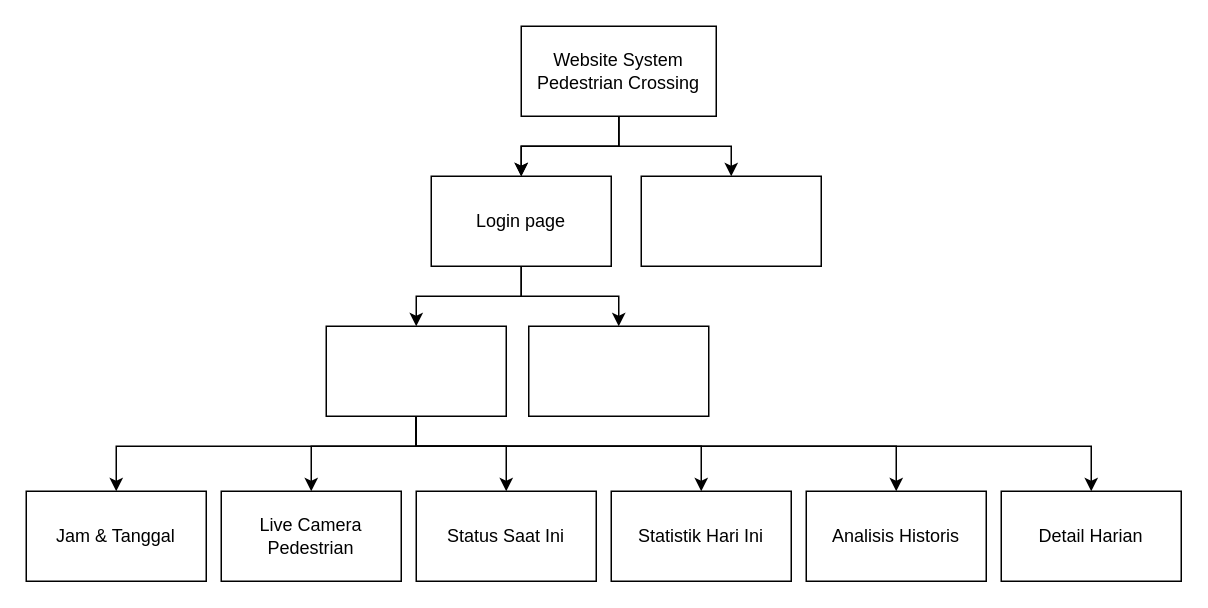
Some shapes in this 1208 by 608 pixel diagram are drawn without their labels. Here are the shapes that lost their labels. From the top down, the centre of each, then its label:
At point (730, 220): "Lupa password".
At point (415, 370): "Dashboard Admin".
At point (618, 370): "Logout".
